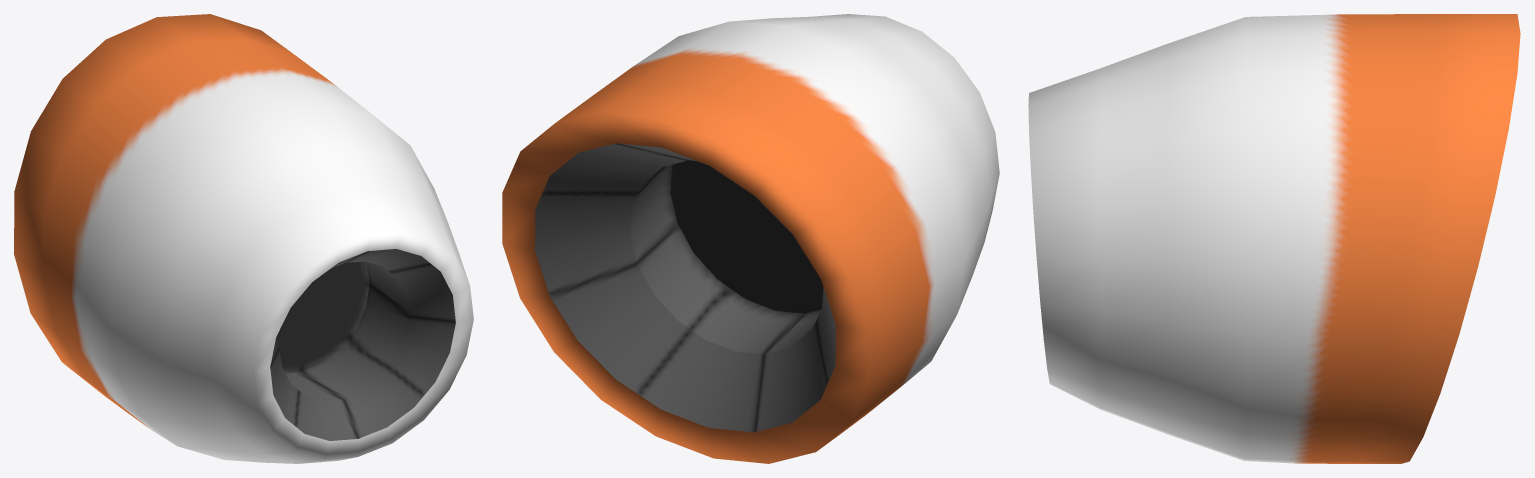
Rendered from buki.fbx.
The picture shows the model from 3 angles, left to right: view 1: azimuth 30°, elevation 25°; view 2: azimuth 150°, elevation 25°; view 3: azimuth 270°, elevation 25°; orthographic projection. The views are drawn at different scales.
Visible parts, largest first — view 1: right_buki; view 2: right_buki; view 3: right_buki.
Boxes of the visible parts, box(x1,y1,x2,y2) form: right_buki: box(14, 14, 473, 463); right_buki: box(502, 14, 999, 463); right_buki: box(1028, 14, 1520, 463).
Size of the model in its own units: 0.253 by 0.253 by 0.2746.
1 material, 1 textured.
